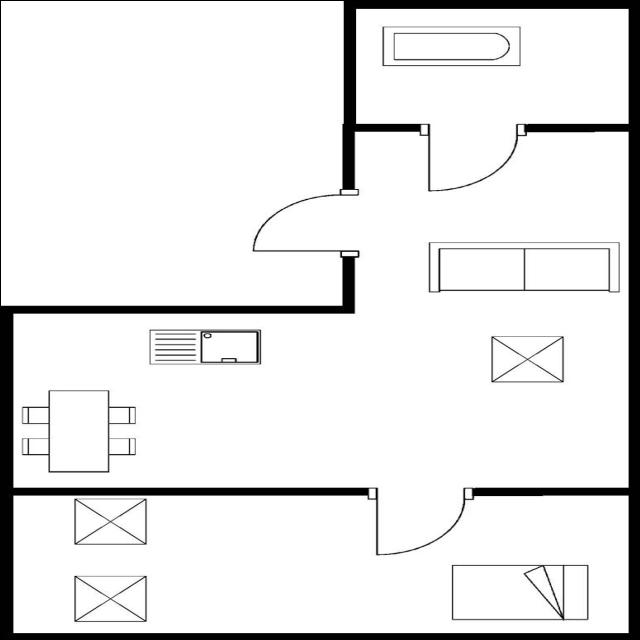bed: (444, 561, 594, 623)
coffee_table: (484, 332, 570, 386), (67, 572, 153, 625), (69, 495, 153, 548)
dining_table: (18, 386, 142, 476)
large_sofa: (421, 238, 624, 295)
sink: (138, 324, 268, 368)
tub: (376, 23, 528, 69)
